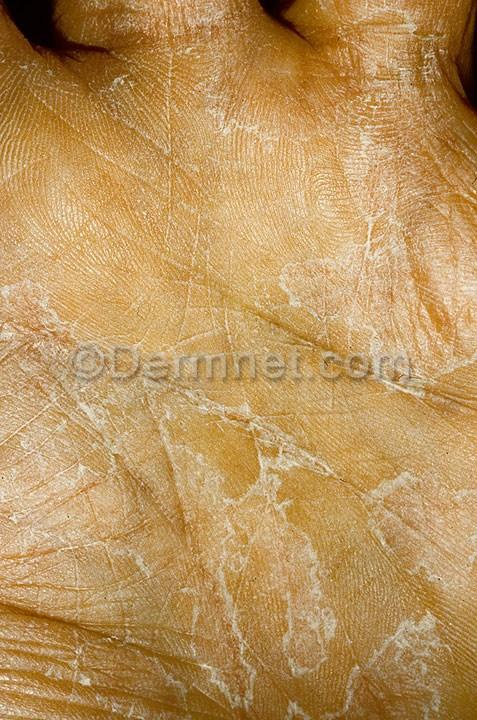Eczema: (42, 383, 477, 720), (277, 142, 477, 342), (312, 2, 477, 134), (101, 0, 265, 125), (6, 263, 78, 348)
